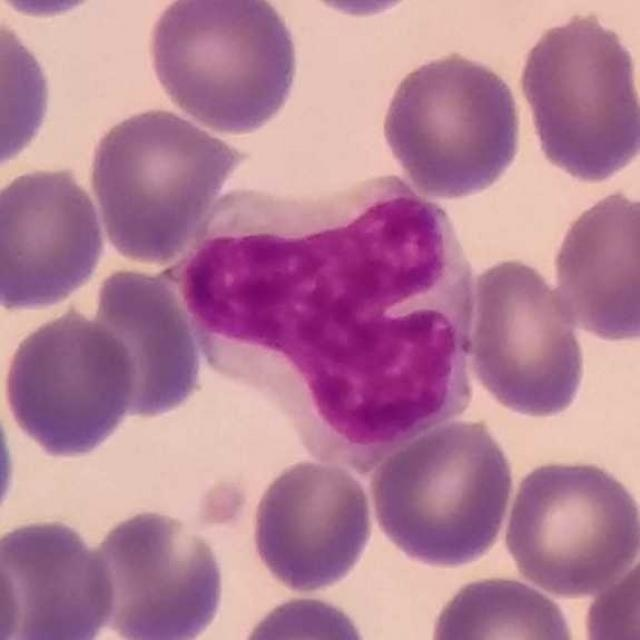Monocyte: (180, 176, 481, 450)
RBC: (83, 102, 244, 266), (366, 415, 518, 570), (513, 7, 640, 187), (378, 47, 526, 200), (0, 304, 141, 462), (142, 0, 304, 136), (461, 253, 590, 422), (77, 264, 207, 424), (500, 453, 640, 598), (82, 504, 230, 640), (246, 456, 377, 596), (0, 161, 109, 313), (0, 513, 120, 640), (547, 184, 640, 345), (425, 571, 582, 640), (0, 10, 57, 177), (231, 591, 373, 640), (581, 546, 640, 640), (285, 0, 433, 20), (0, 534, 24, 639), (0, 0, 105, 21)
